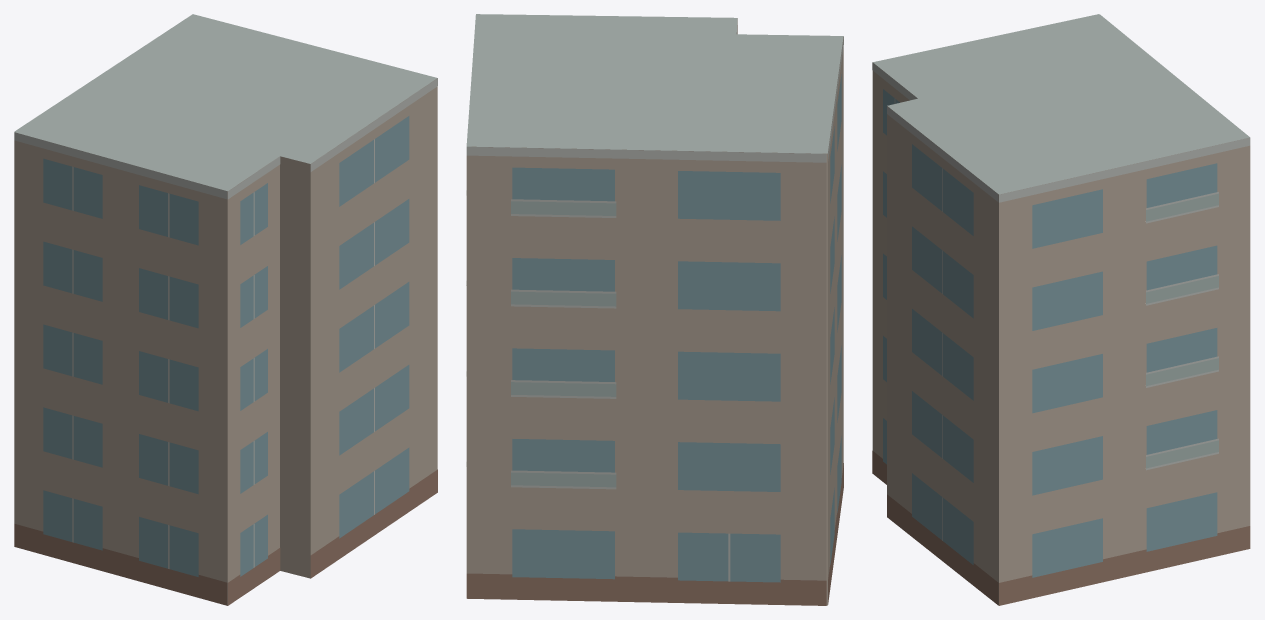
File: survey-upis-32781944.glb
The picture shows the model from 3 angles, left to right: view 1: azimuth 30°, elevation 25°; view 2: azimuth 150°, elevation 25°; view 3: azimuth 270°, elevation 25°; orthographic projection. The views are drawn at different scales.
Visible parts, largest first — view 1: survey-upis-32781944.tmp; view 2: survey-upis-32781944.tmp; view 3: survey-upis-32781944.tmp.
Boxes of the visible parts, <box> form: survey-upis-32781944.tmp: <box>14,14,437,605</box>; survey-upis-32781944.tmp: <box>466,14,843,605</box>; survey-upis-32781944.tmp: <box>872,14,1250,605</box>.
Bounding box in the file's own units: 11.54 × 12.25 × 10.21.
